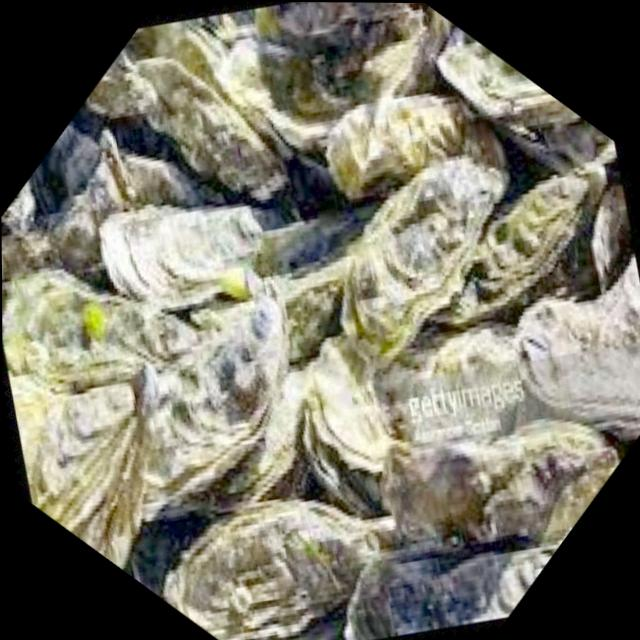Oyster-Closed: (434, 173, 604, 326), (244, 226, 375, 366)
Oyster-Indeterminate: (356, 287, 553, 494), (333, 466, 557, 640), (134, 287, 288, 519), (343, 157, 504, 365), (381, 419, 619, 547), (2, 270, 156, 467), (163, 500, 378, 640), (12, 376, 144, 568), (436, 27, 607, 173), (515, 260, 640, 439), (138, 57, 287, 200), (326, 94, 502, 199), (99, 206, 261, 309), (302, 337, 393, 516), (47, 111, 171, 240), (144, 3, 269, 113), (217, 368, 312, 507)
